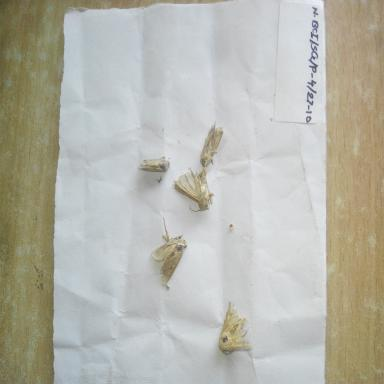abw: (149, 212, 190, 292), (215, 293, 255, 359), (173, 166, 217, 216), (194, 120, 234, 169), (134, 150, 174, 188)
